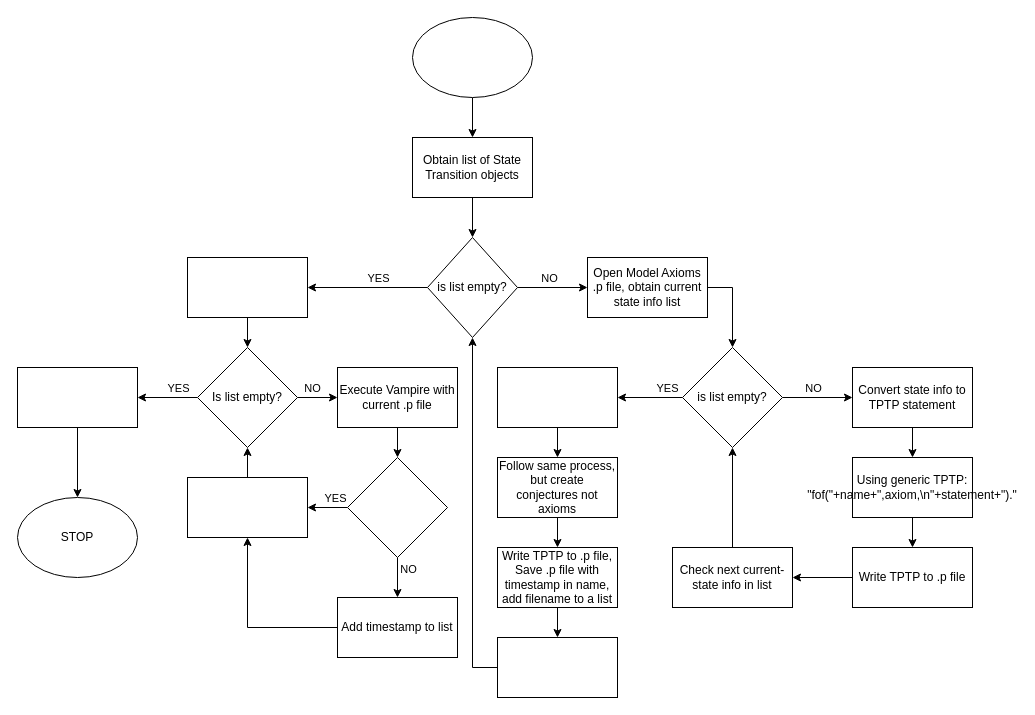
The diagram is 1035 pixels wide and 715 high, and some of its shapes have lost their labels. The shapes that lost their labels are listed below. From the top down, each one's centre as x and y in pixels, then its label:
At [472,57]: "START".
At [247,287]: "Obtain .p files list".
At [77,397]: "Print timestamps of incorrect state transitions".
At [557,397]: "Obtain next-state info list".
At [247,507]: "Go to next .p file".
At [397,507]: "Was Conjecture proven?".
At [557,667]: "Go to next State Transition object".
